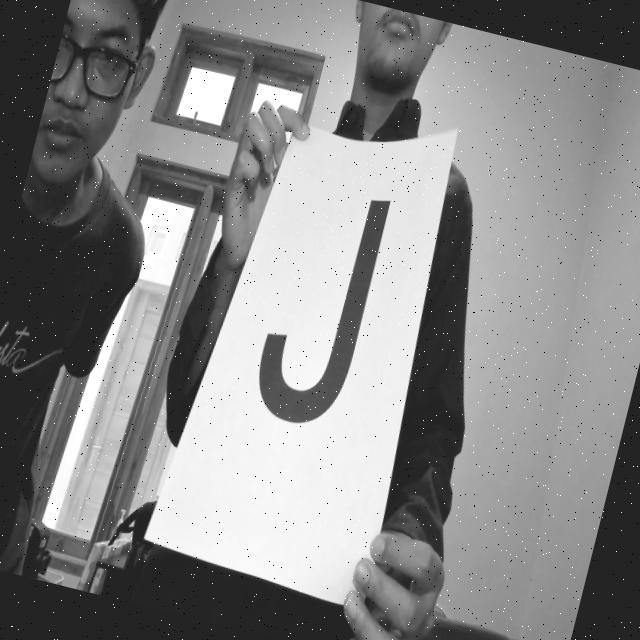j: (236, 171, 404, 445)
